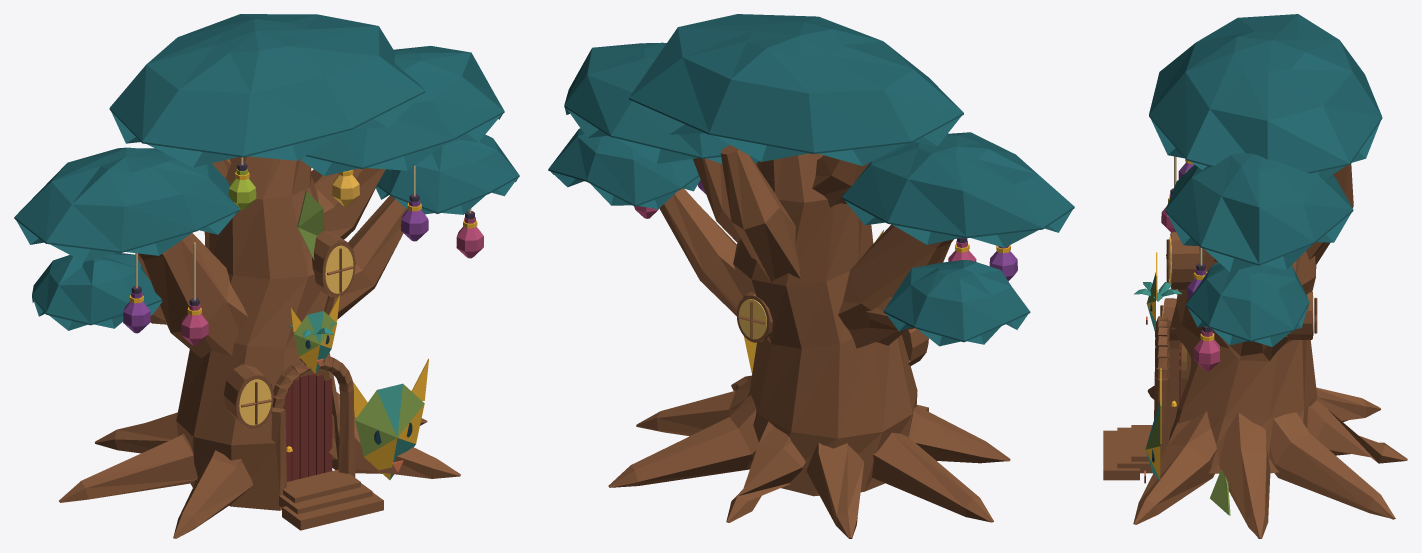
The model's file is building.glb.
3 views of the same model, side by side, from view 1: azimuth 30°, elevation 25°; view 2: azimuth 150°, elevation 25°; view 3: azimuth 270°, elevation 25° (orthographic). The views are drawn at different scales.
Parts seen in each view (by area): view 1: Building_Zecora_Canopies, Building_Zecora_RootsAndBranches, Building_Zecora_DoorWindowsMasks, Building_Zecora_Trunk, Building_Zecora_HangingBottles; view 2: Building_Zecora_Canopies, Building_Zecora_RootsAndBranches, Building_Zecora_Trunk, Building_Zecora_DoorWindowsMasks, Building_Zecora_HangingBottles; view 3: Building_Zecora_Canopies, Building_Zecora_RootsAndBranches, Building_Zecora_Trunk, Building_Zecora_DoorWindowsMasks, Building_Zecora_HangingBottles.
Part boxes in pixels (left/top/right/bottom): Building_Zecora_Canopies: left=14, top=14, right=519, bottom=330; Building_Zecora_RootsAndBranches: left=59, top=159, right=460, bottom=538; Building_Zecora_DoorWindowsMasks: left=224, top=190, right=428, bottom=530; Building_Zecora_Trunk: left=176, top=156, right=339, bottom=510; Building_Zecora_HangingBottles: left=123, top=157, right=483, bottom=345; Building_Zecora_Canopies: left=548, top=14, right=1074, bottom=346; Building_Zecora_RootsAndBranches: left=608, top=145, right=1010, bottom=538; Building_Zecora_Trunk: left=733, top=153, right=917, bottom=496; Building_Zecora_DoorWindowsMasks: left=736, top=230, right=928, bottom=411; Building_Zecora_HangingBottles: left=634, top=180, right=1017, bottom=280; Building_Zecora_Canopies: left=1149, top=14, right=1382, bottom=346; Building_Zecora_RootsAndBranches: left=1133, top=163, right=1407, bottom=538; Building_Zecora_Trunk: left=1169, top=247, right=1317, bottom=473; Building_Zecora_DoorWindowsMasks: left=1103, top=171, right=1317, bottom=515; Building_Zecora_HangingBottles: left=1161, top=156, right=1220, bottom=370.
Bounding box in the file's own units: 1.64 × 1.38 × 0.906.
